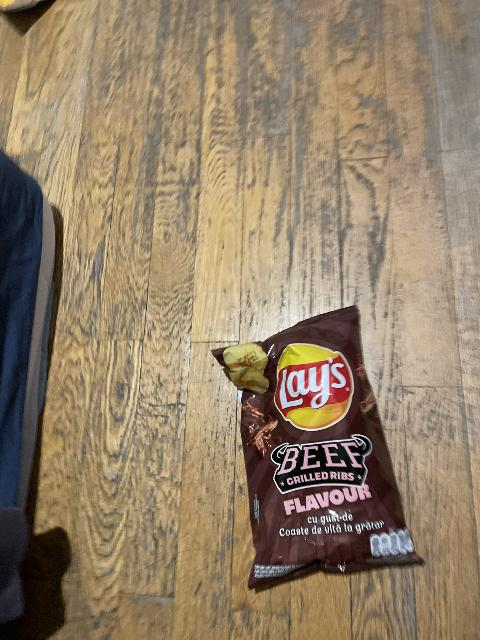Lays Beef Grilled Ribs 125g: (210, 308, 422, 582)
